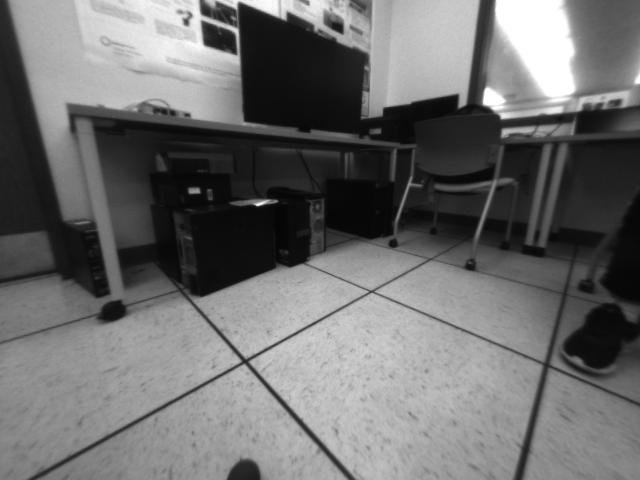dogtoy: (217, 450, 270, 480)
